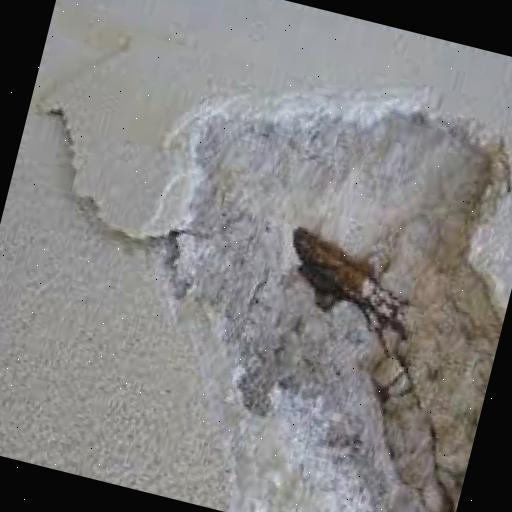spalling: (182, 97, 509, 512)
